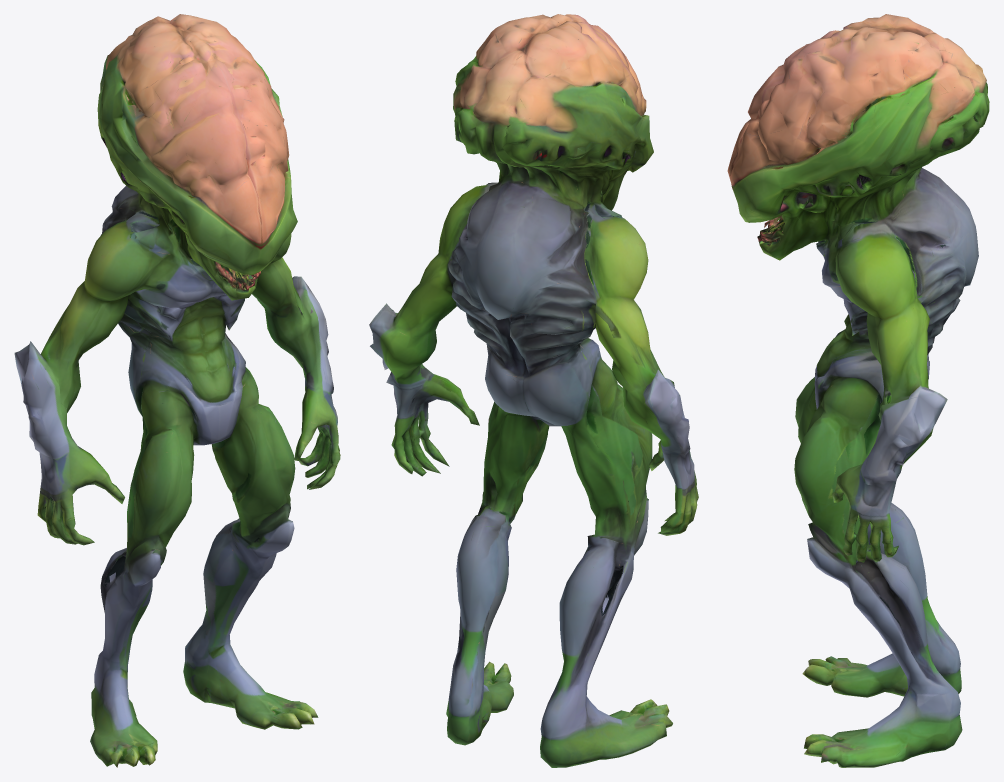
The model's file is postać_obcego_ufo_b_0602084324_texture.fbx.
The picture shows the model from 3 angles, left to right: view 1: azimuth 30°, elevation 25°; view 2: azimuth 150°, elevation 25°; view 3: azimuth 270°, elevation 25°; orthographic projection.
Parts seen in each view (by area): view 1: Mesh1; view 2: Mesh1; view 3: Mesh1.
Boxes of the visible parts, <box> form: Mesh1: <box>14,14,340,767</box>; Mesh1: <box>369,14,698,767</box>; Mesh1: <box>727,14,989,767</box>.
Bounding box in the file's own units: 90.25 × 200 × 68.06.
Materials: 1 (1 with a texture image).
